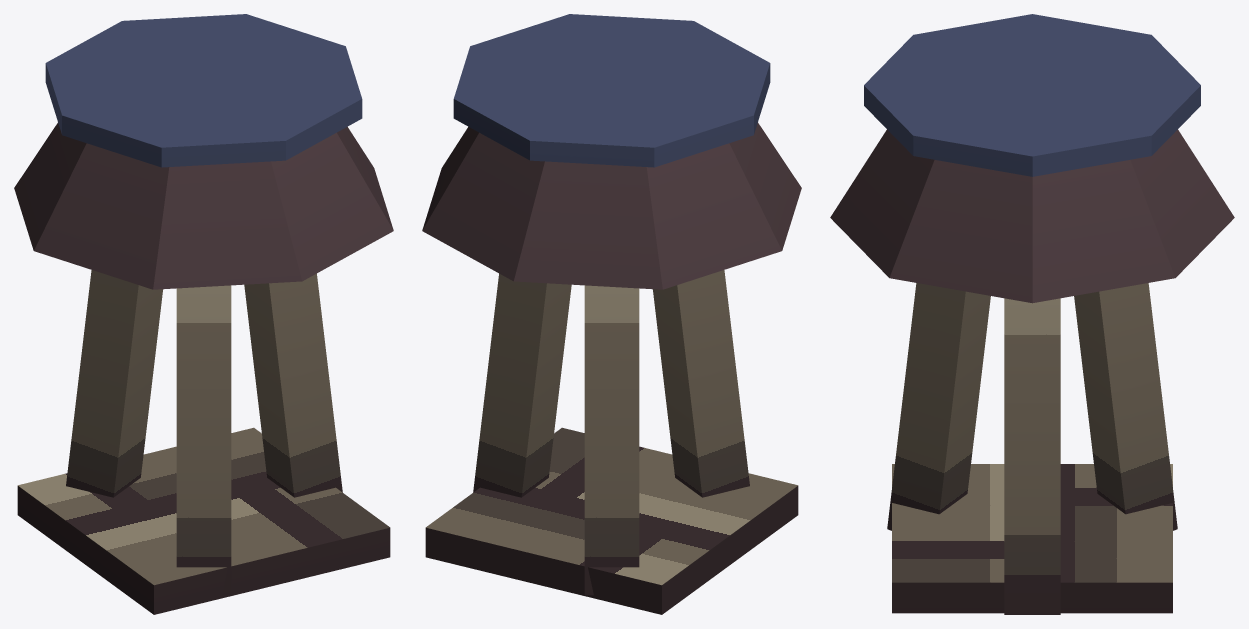
File: brazier.glb
3 renders of one model, left to right at view 1: azimuth 30°, elevation 25°; view 2: azimuth 150°, elevation 25°; view 3: azimuth 270°, elevation 25°, orthographic. The views are drawn at different scales.
Parts seen in each view (by area): view 1: brazier; view 2: brazier; view 3: brazier.
Boxes of the visible parts, x1=… form: brazier: x1=14, y1=14, x2=393, y2=614; brazier: x1=422, y1=14, x2=801, y2=614; brazier: x1=830, y1=14, x2=1234, y2=614.
Size of the model in its own units: 0.72 by 0.926 by 0.72.
Materials: 2 (1 with a texture image).
